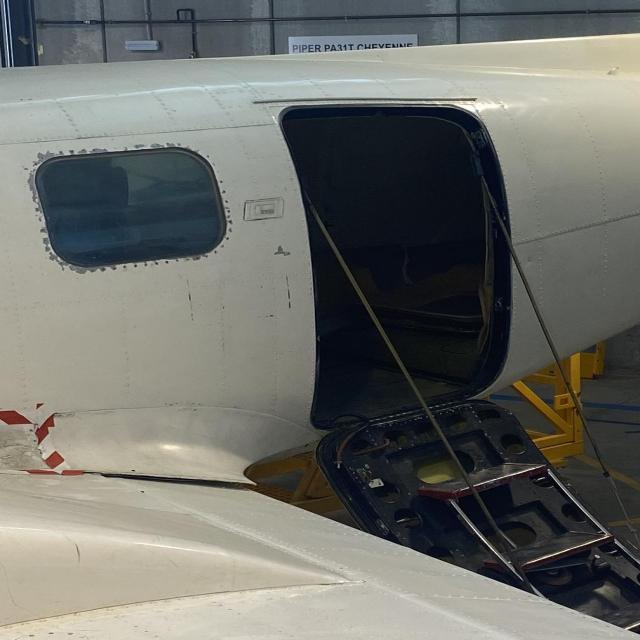Dent: (524, 255, 540, 267)
Paint-off: (25, 168, 40, 202), (37, 150, 60, 163)
